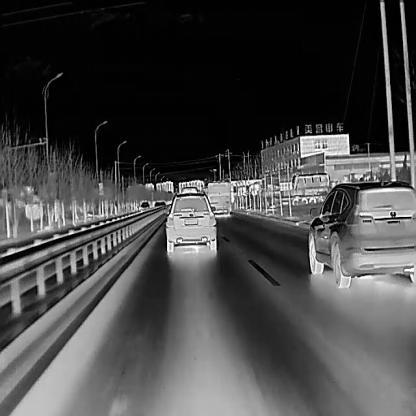car: (306, 177, 416, 288), (164, 190, 216, 253), (279, 172, 329, 205), (201, 181, 230, 216), (139, 201, 149, 212)
